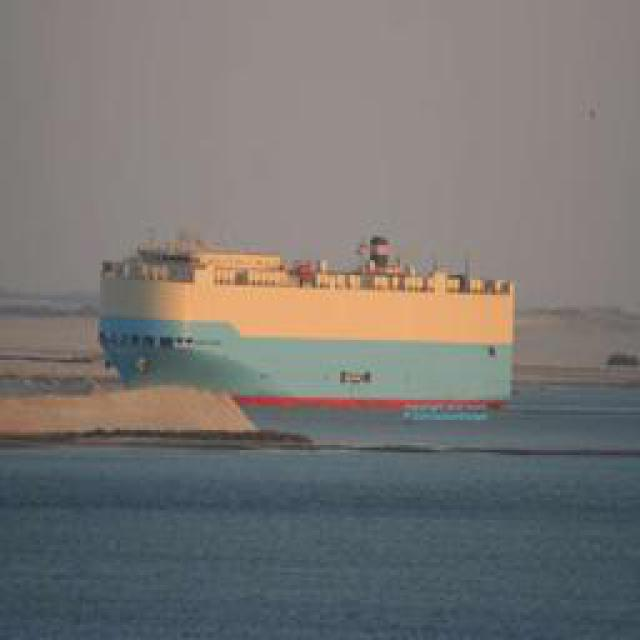Ship: (104, 240, 514, 405)
